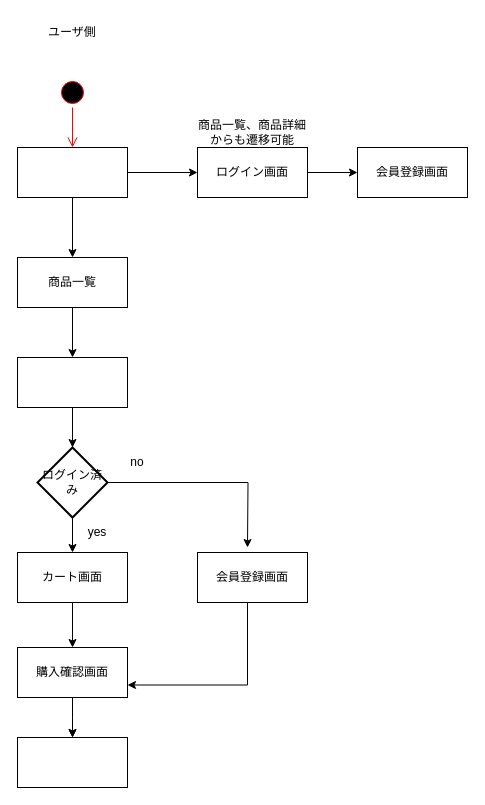
The diagram is 485 pixels wide and 805 high, and some of its shapes have lost their labels. Each missing label, with the centre of its shape:
"トップページ" belongs at (x=72, y=172).
"商品詳細" belongs at (x=72, y=382).
"購入完了画面" belongs at (x=72, y=762).
